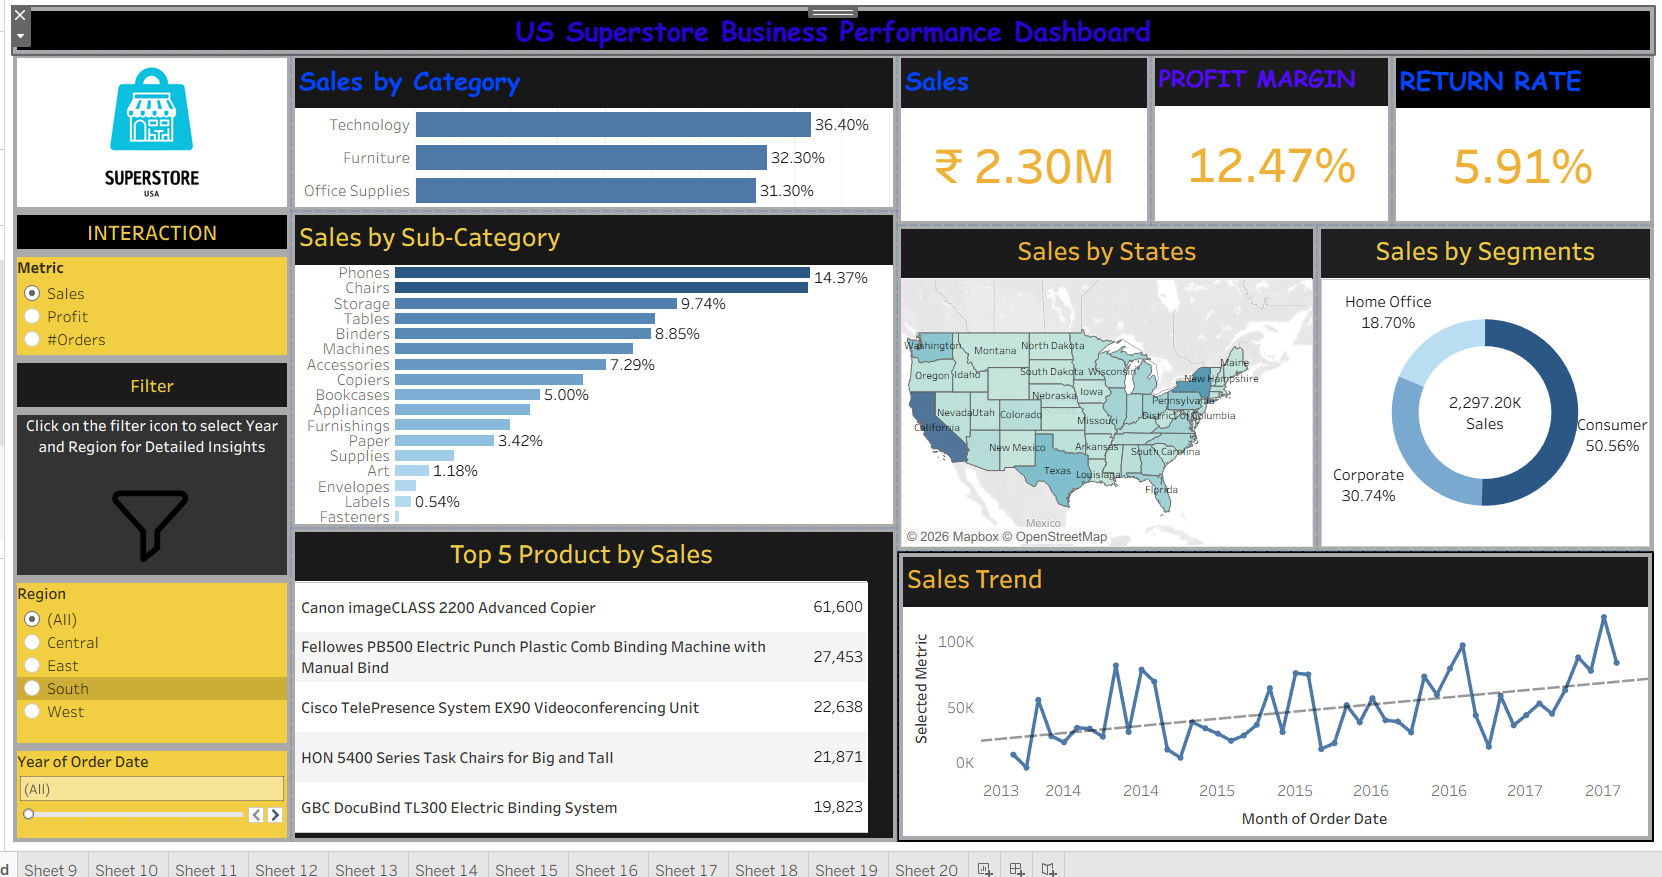

The dashboard page shown, as its layout file describes it:
{"tool":"tableau","page":{"name":"Dashboard","canvas":[1000,1000],"units":"permille","ordinal":0},"visuals":[{"type":"text","box":[4.8,9.4,990.4,55.2]},{"type":"image","param":"Image/image.png","box":[4.8,64.6,167.7,184.5]},{"type":"worksheet","title":"Sheet 13","mark":"Automatic","rows":["Category"],"cols":["Calculation_0840032767963136"],"box":[172.5,64.6,365.7,184.5]},{"type":"worksheet","title":"Sheet 10","mark":"Automatic","box":[538.2,64.6,153.3,200.9]},{"type":"worksheet","title":"Sheet 11","mark":"Automatic","box":[691.5,64.6,145.4,200.9]},{"type":"worksheet","title":"Sheet 12","mark":"Automatic","box":[837,64.6,158.2,200.9]},{"type":"text","box":[4.8,249.1,167.7,49.4]},{"type":"worksheet","title":"Sheet 14","mark":"Automatic","rows":["Sub-Category"],"cols":["Calculation_0840032767963136"],"box":[172.5,249.1,365.7,372.5]},{"type":"worksheet","title":"Sheet 15","mark":"Automatic","box":[538.2,265.6,253.5,383.7]},{"type":"worksheet","title":"Sheet 16","mark":"Pie","rows":["Calculation_0177027591876615","Calculation_0177027591876615"],"box":[791.7,265.6,203.5,383.7]},{"type":"parameter","param":"[Parameters].[Parameter 2]","box":[4.8,298.5,167.7,124.6]},{"type":"text","box":[4.8,423,167.7,61.1]},{"type":"text","box":[4.8,484.1,167.7,197.4]},{"type":"dashboard-object","box":[10.9,564,153.9,105.8]},{"type":"worksheet","title":"Sheet 17","mark":"Automatic","rows":["Product Name"],"box":[172.5,621.6,365.7,369]},{"type":"worksheet","title":"Sheet 18","mark":"Line","rows":["Calculation_0840032767963136"],"cols":["Order Date"],"box":[539.4,651.6,454.5,336.7]},{"type":"filter","title":"Sheet 10","param":"[federated.0aky7401lapyq21dfu8zx08xmjus].[none:Region:nk]","box":[4.8,681.6,167.7,197.4]},{"type":"filter","title":"Sheet 10","param":"[federated.0aky7401lapyq21dfu8zx08xmjus].[yr:Order Date:ok]","box":[4.8,879,167.7,111.6]}]}

Visuals, with their boxes on the dashboard's canvas, which has no fixed pixel size, in thousandths of its width and height (x1, y1, x2, y2). These are canvas units, not pixel positions in the 1662x877 screenshot, which may show the page scaled, cropped or inside an application window:
text: 5, 9, 995, 65
image: 5, 65, 172, 249
"Sheet 13" worksheet: 172, 65, 538, 249
"Sheet 10" worksheet: 538, 65, 692, 266
"Sheet 11" worksheet: 692, 65, 837, 266
"Sheet 12" worksheet: 837, 65, 995, 266
text: 5, 249, 172, 298
"Sheet 14" worksheet: 172, 249, 538, 622
"Sheet 15" worksheet: 538, 266, 792, 649
"Sheet 16" worksheet (Pie marks): 792, 266, 995, 649
parameter: 5, 298, 172, 423
text: 5, 423, 172, 484
text: 5, 484, 172, 682
dashboard-object: 11, 564, 165, 670
"Sheet 17" worksheet: 172, 622, 538, 991
"Sheet 18" worksheet (Line marks): 539, 652, 994, 988
"Sheet 10" filter: 5, 682, 172, 879
"Sheet 10" filter: 5, 879, 172, 991
